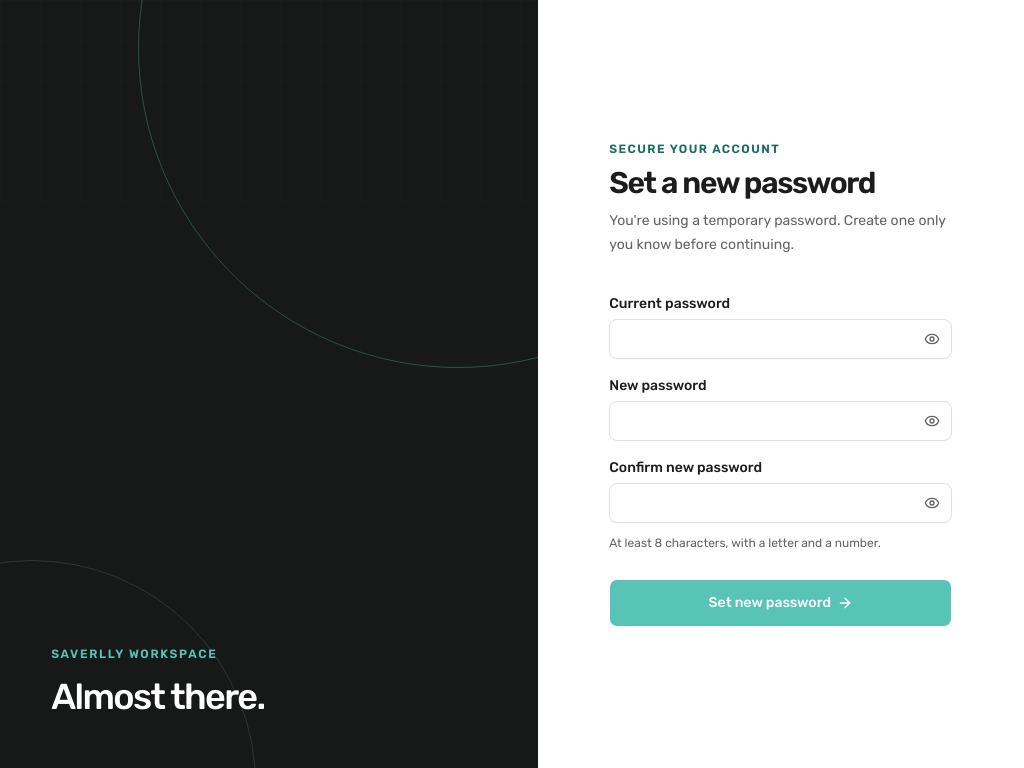
Test: ChangePasswordForm › shows the server's error message on a wrong current password and does not redirect
Type "WrongPassword!" into the password field labelled "Current password".
click(781, 339); type("WrongPassword!")  # box [609,319,952,359]
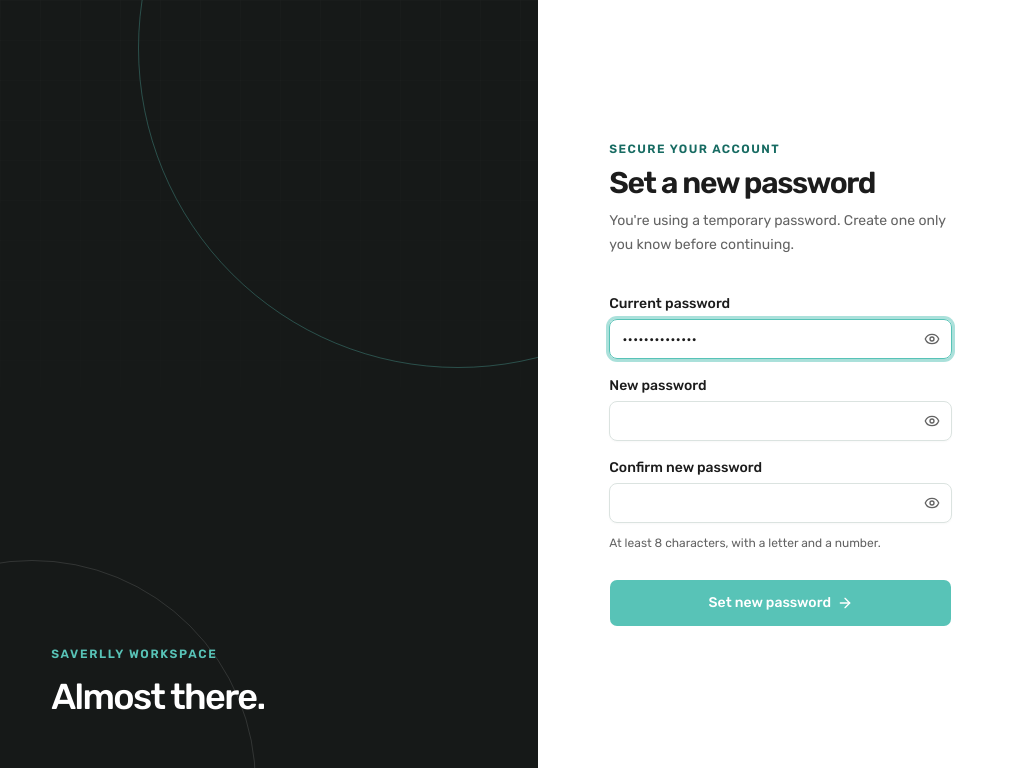
Type "NewPassword123!" into the password field labelled "New password".
click(781, 421); type("NewPassword123!")  # box [609,401,952,441]
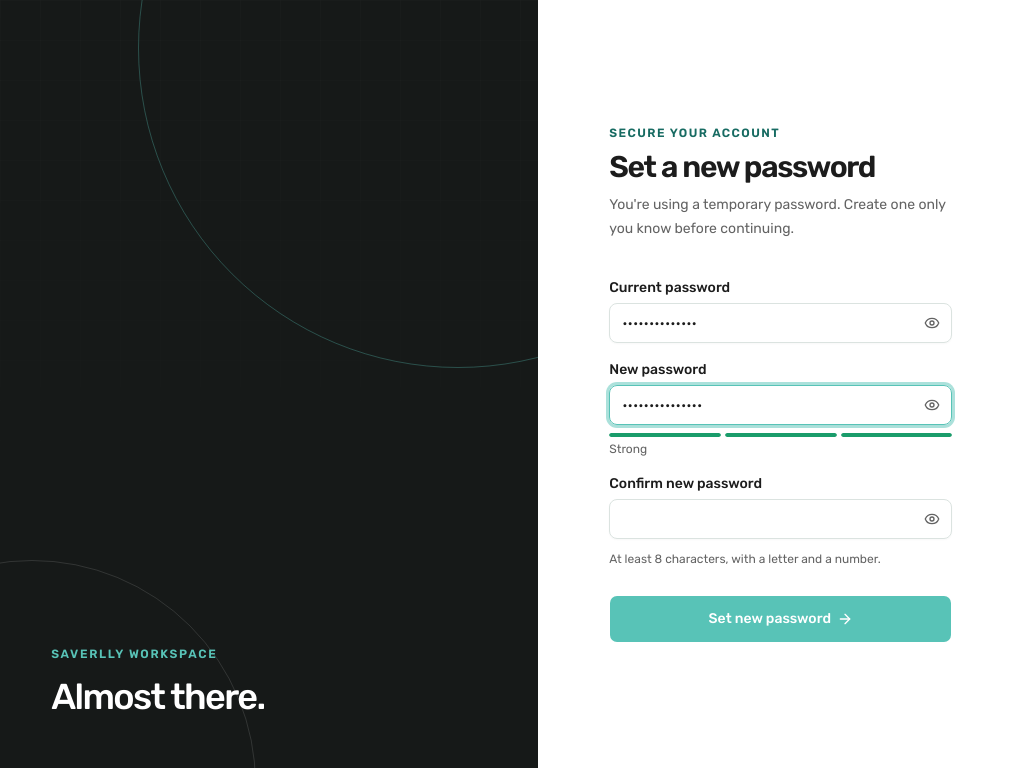
Type "NewPassword123!" into the password field labelled "Confirm new password".
click(781, 519); type("NewPassword123!")  # box [609,499,952,539]
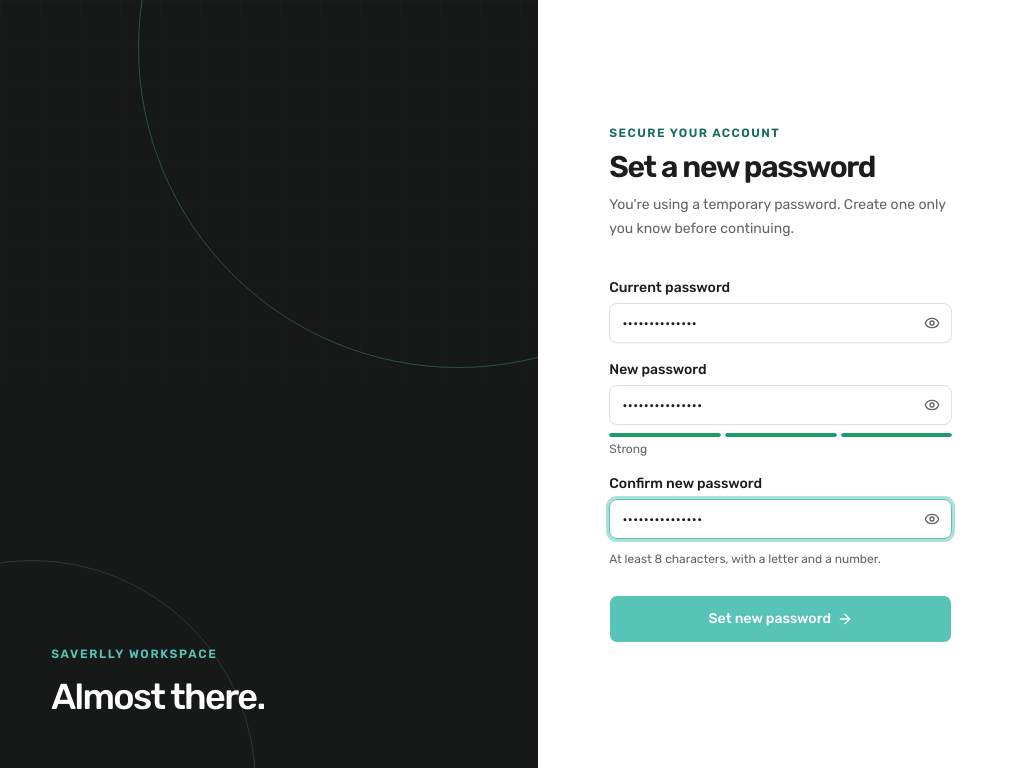
Click the button "Set new password".
click(781, 619)  # box [609,595,952,643]
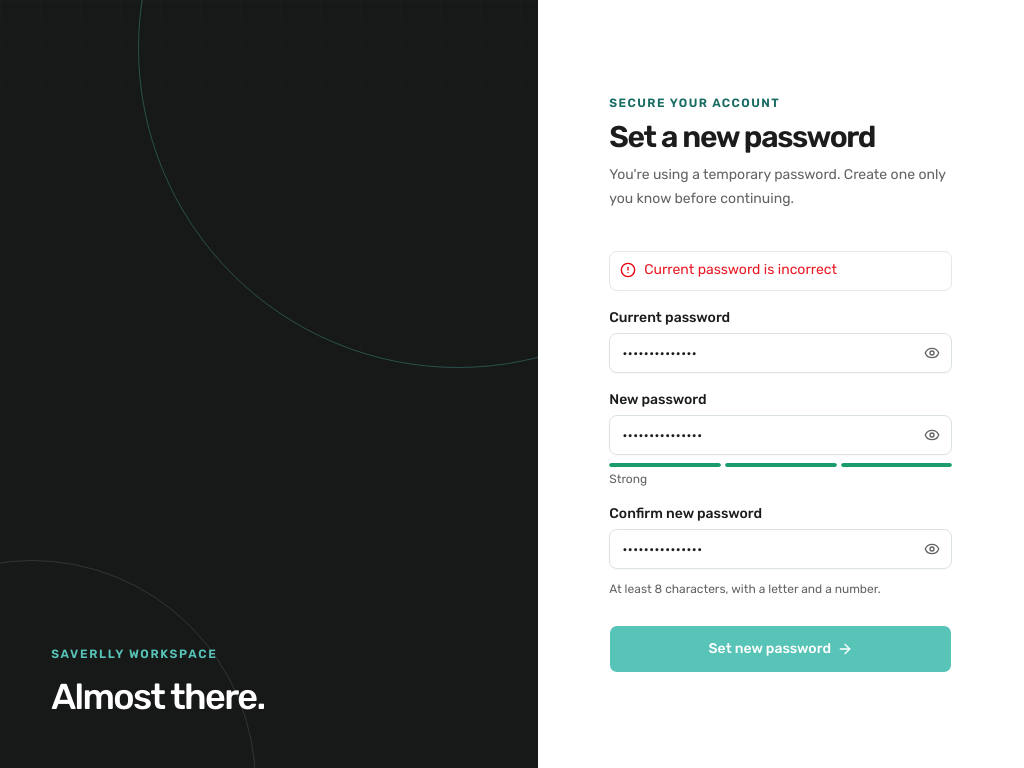
Expected: the text "Current password is incorrect" is shown, [644,261,837,278]
